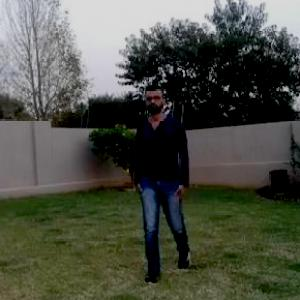follow: (135, 90, 185, 263)
